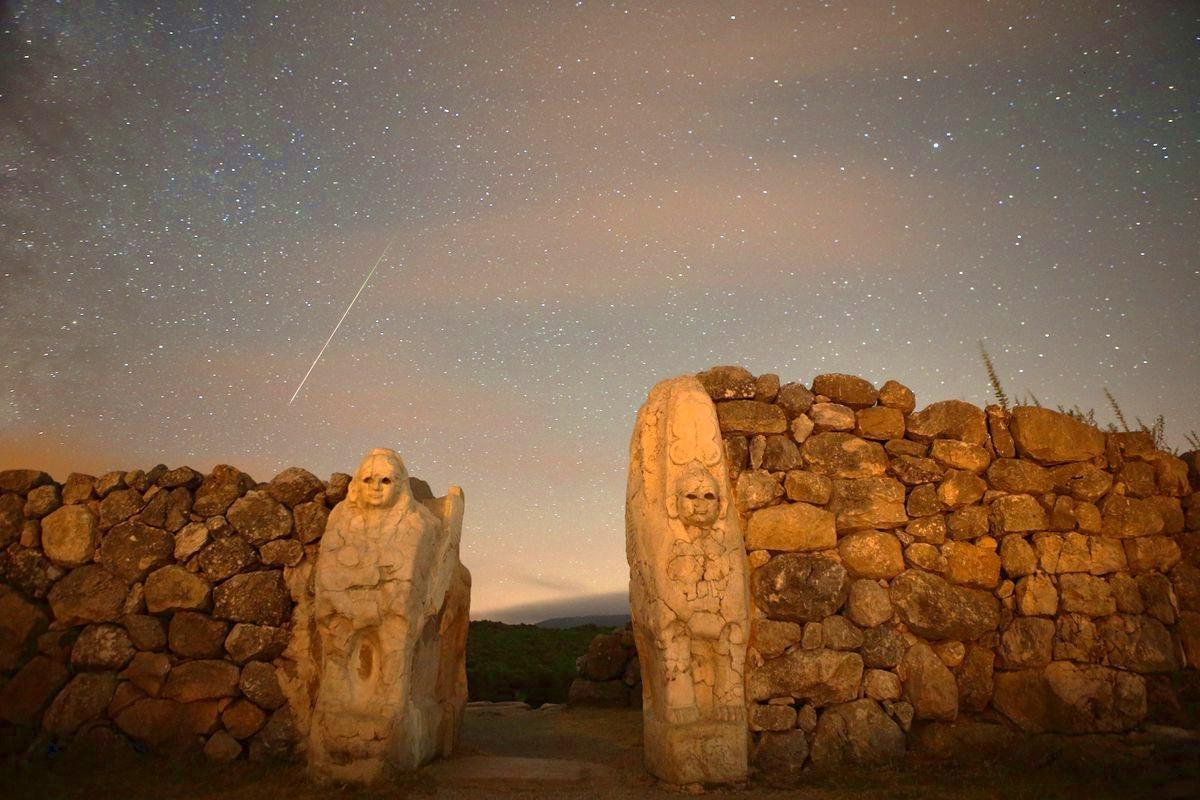meteorite: (277, 272, 398, 413)
